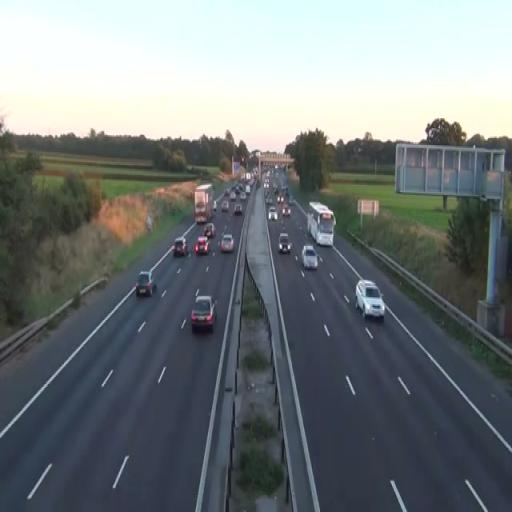Bus: (307, 201, 335, 247)
Car: (355, 280, 385, 320), (191, 294, 218, 333), (135, 270, 154, 297), (301, 245, 318, 270), (173, 236, 188, 258), (194, 236, 210, 256), (278, 232, 292, 254), (220, 232, 234, 252), (204, 223, 216, 238), (268, 207, 278, 221), (234, 204, 243, 216)
Truck: (194, 184, 213, 224)
